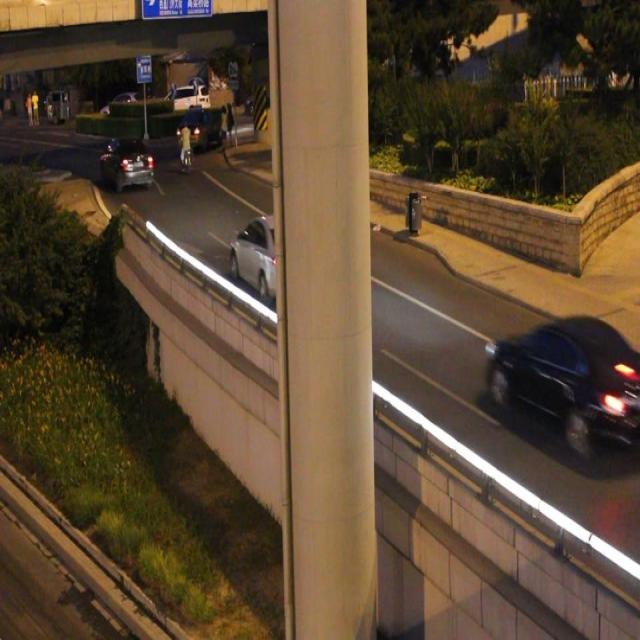car: (483, 316, 640, 456), (229, 211, 313, 303)
